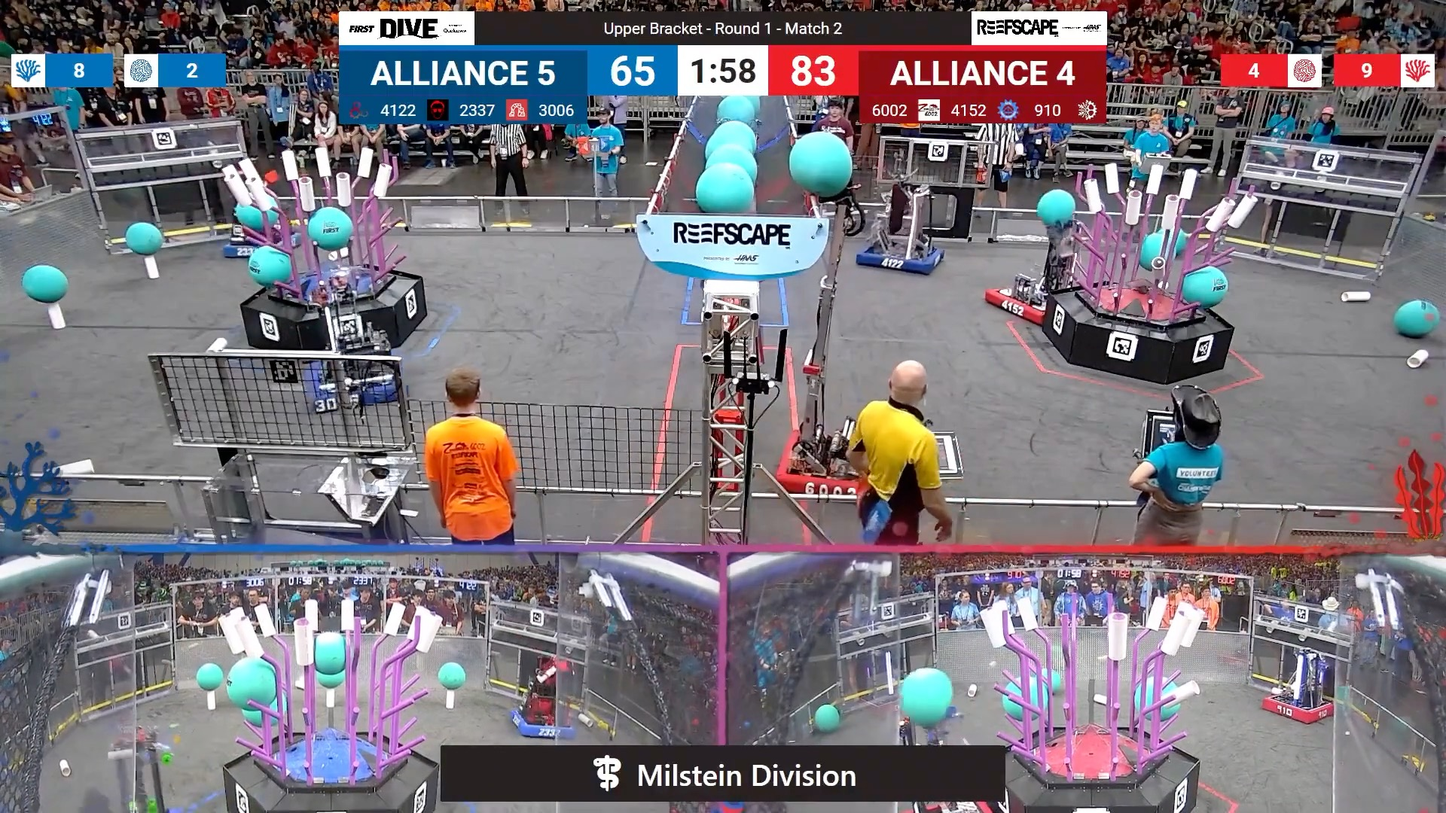bumpers: (767, 440, 883, 502), (298, 352, 408, 412), (982, 273, 1057, 328), (850, 239, 950, 276), (504, 705, 582, 745), (1255, 691, 1343, 726), (218, 228, 307, 261)
